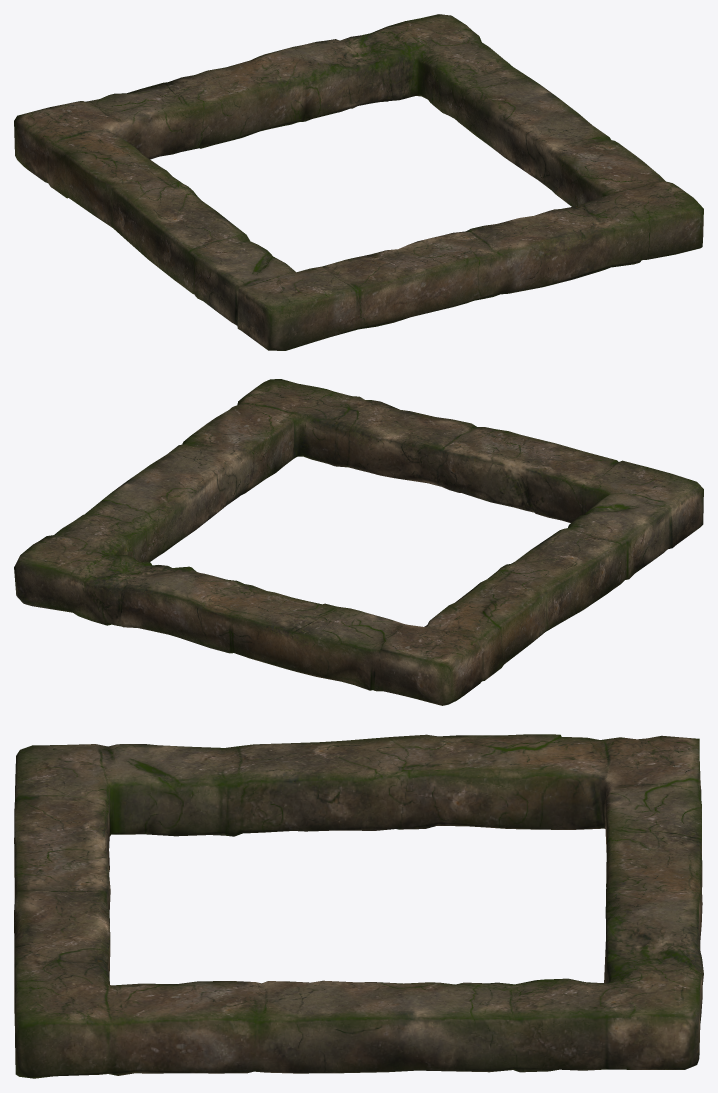
Rendered from MossyForgotten_SquareStone_Large.glb.
3 views of the same model, one above another, from view 1: azimuth 30°, elevation 25°; view 2: azimuth 150°, elevation 25°; view 3: azimuth 270°, elevation 25° (orthographic). The views are drawn at different scales.
Parts seen in each view (by area): view 1: MossyForgotten_SquareStone_Large; view 2: MossyForgotten_SquareStone_Large; view 3: MossyForgotten_SquareStone_Large.
Part boxes in pixels (x1,y1,x2,y2): MossyForgotten_SquareStone_Large: (14, 14, 703, 350); MossyForgotten_SquareStone_Large: (14, 379, 703, 705); MossyForgotten_SquareStone_Large: (14, 734, 703, 1078).
Size of the model in its own units: 8.61 by 1.04 by 8.93.
Materials: 1 (1 with a texture image).
